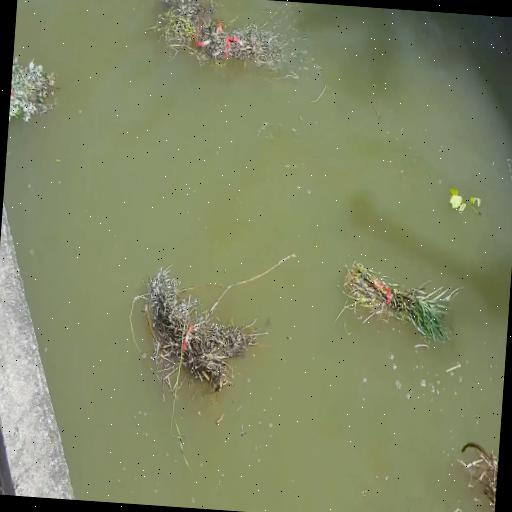twig: (148, 253, 284, 403), (326, 242, 472, 364), (148, 0, 316, 79), (8, 50, 82, 130), (450, 427, 500, 512), (435, 172, 501, 225)
